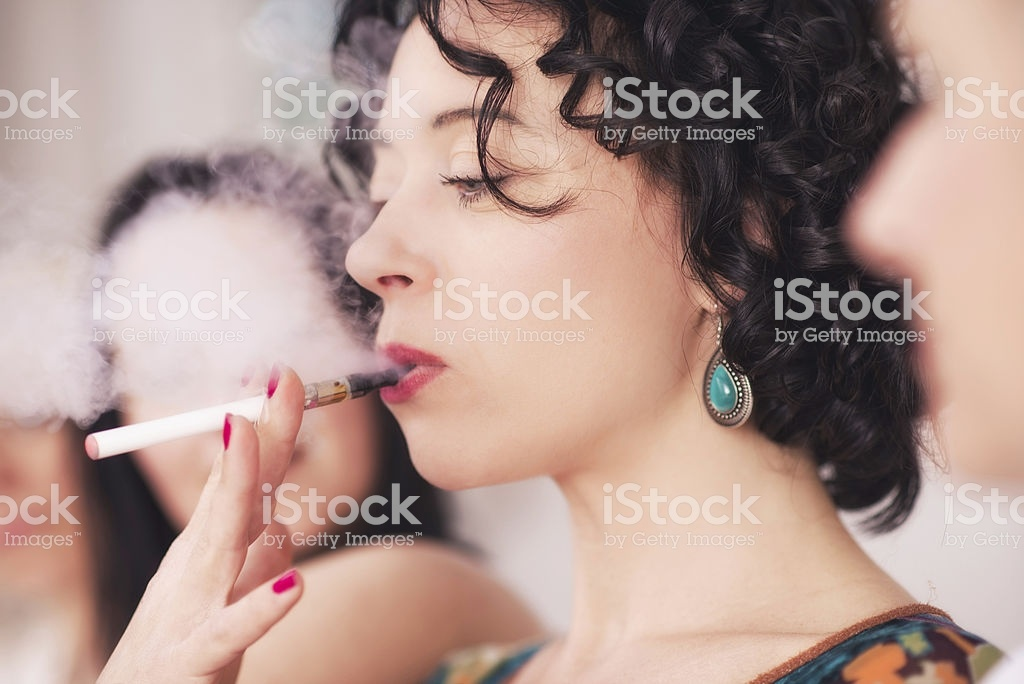sigaretta: (77, 353, 401, 458)
